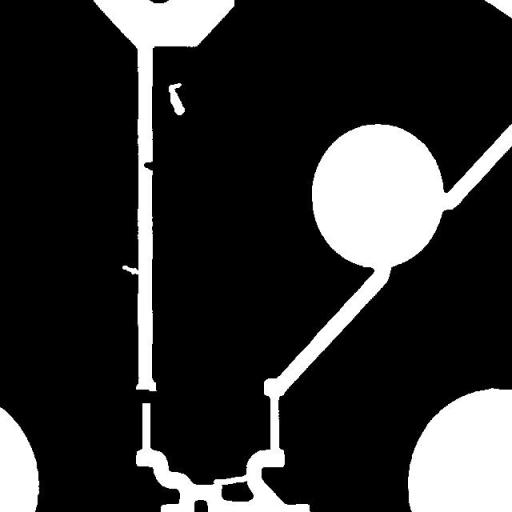mousebite: (114, 258, 148, 282)
open: (206, 466, 258, 492)
pin-hole: (161, 76, 192, 122)
short: (122, 382, 170, 410)
spur: (136, 154, 163, 178)
